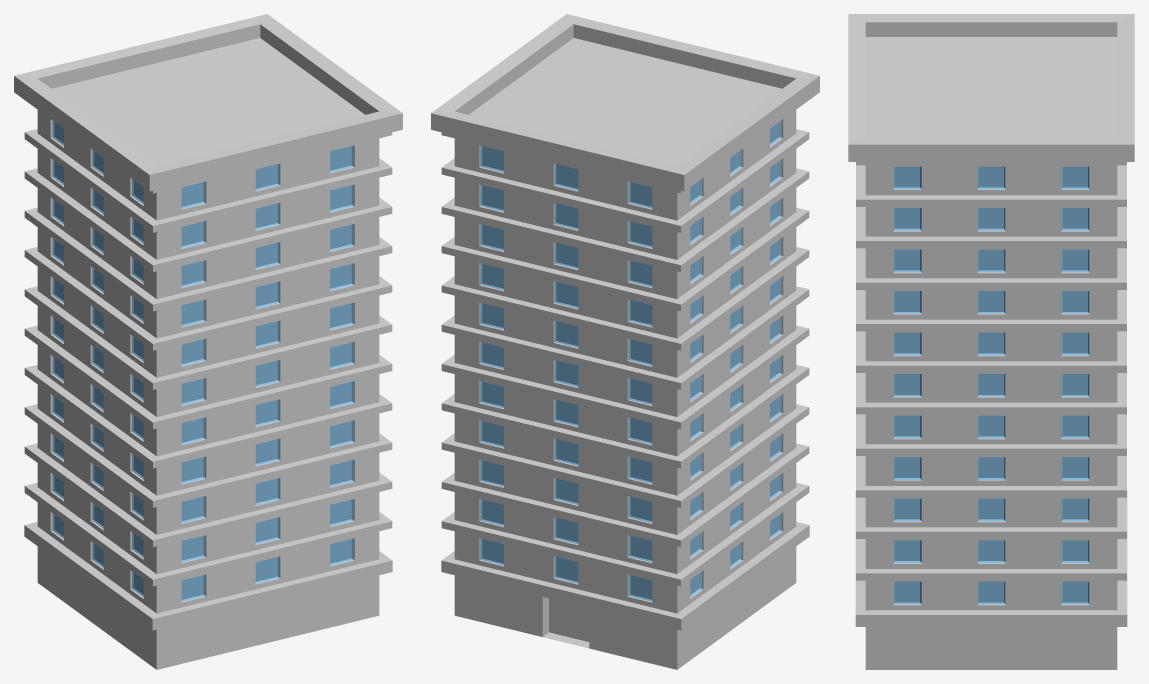
The model's file is Building-2.glb.
3 views of the same model, side by side, from view 1: azimuth 30°, elevation 25°; view 2: azimuth 150°, elevation 25°; view 3: azimuth 270°, elevation 25° (orthographic). The views are drawn at different scales.
Visible parts, largest first — view 1: Plane.015; view 2: Plane.015; view 3: Plane.015.
Boxes of the visible parts, x1,y1,x2,y2 form: Plane.015: (14,14,402,669); Plane.015: (431,14,819,669); Plane.015: (848,14,1134,669).
Size of the model in its own units: 2.45 by 4.67 by 2.28.
